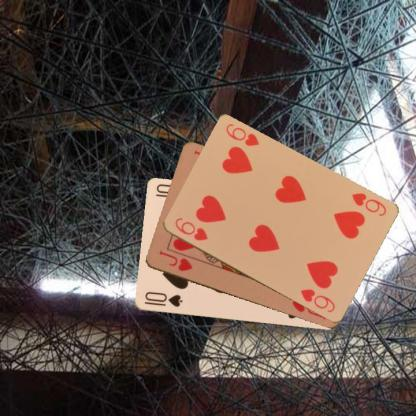10s: (142, 289, 184, 308)
6h: (348, 190, 388, 218), (172, 215, 209, 242)
Jh: (156, 248, 194, 273)
